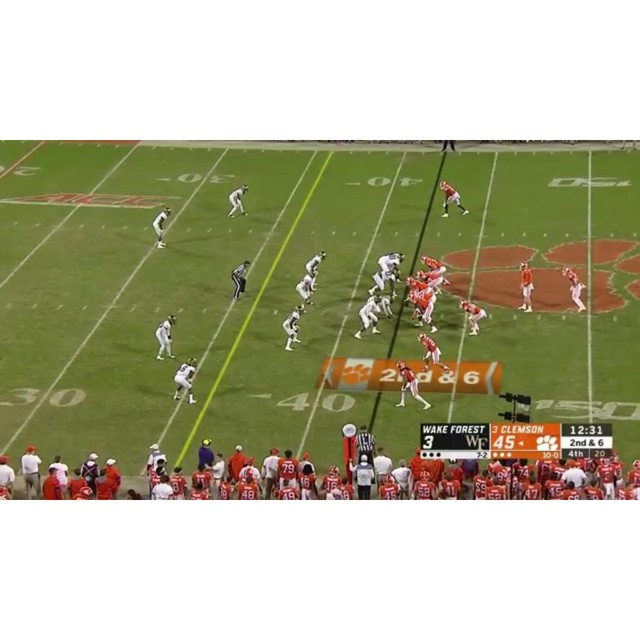american-football-player: (395, 360, 432, 410), (417, 331, 453, 380), (354, 295, 383, 339), (408, 292, 438, 332), (458, 299, 490, 336), (172, 357, 197, 404), (440, 180, 470, 217), (563, 267, 587, 313), (155, 314, 178, 361), (367, 265, 399, 298), (282, 305, 303, 352), (518, 262, 536, 313), (295, 271, 317, 311), (420, 254, 449, 284), (306, 251, 327, 292), (152, 208, 171, 248), (227, 184, 249, 218), (378, 252, 405, 279), (371, 293, 397, 321), (417, 267, 444, 293), (404, 276, 431, 297)
referee: (231, 259, 252, 301)
